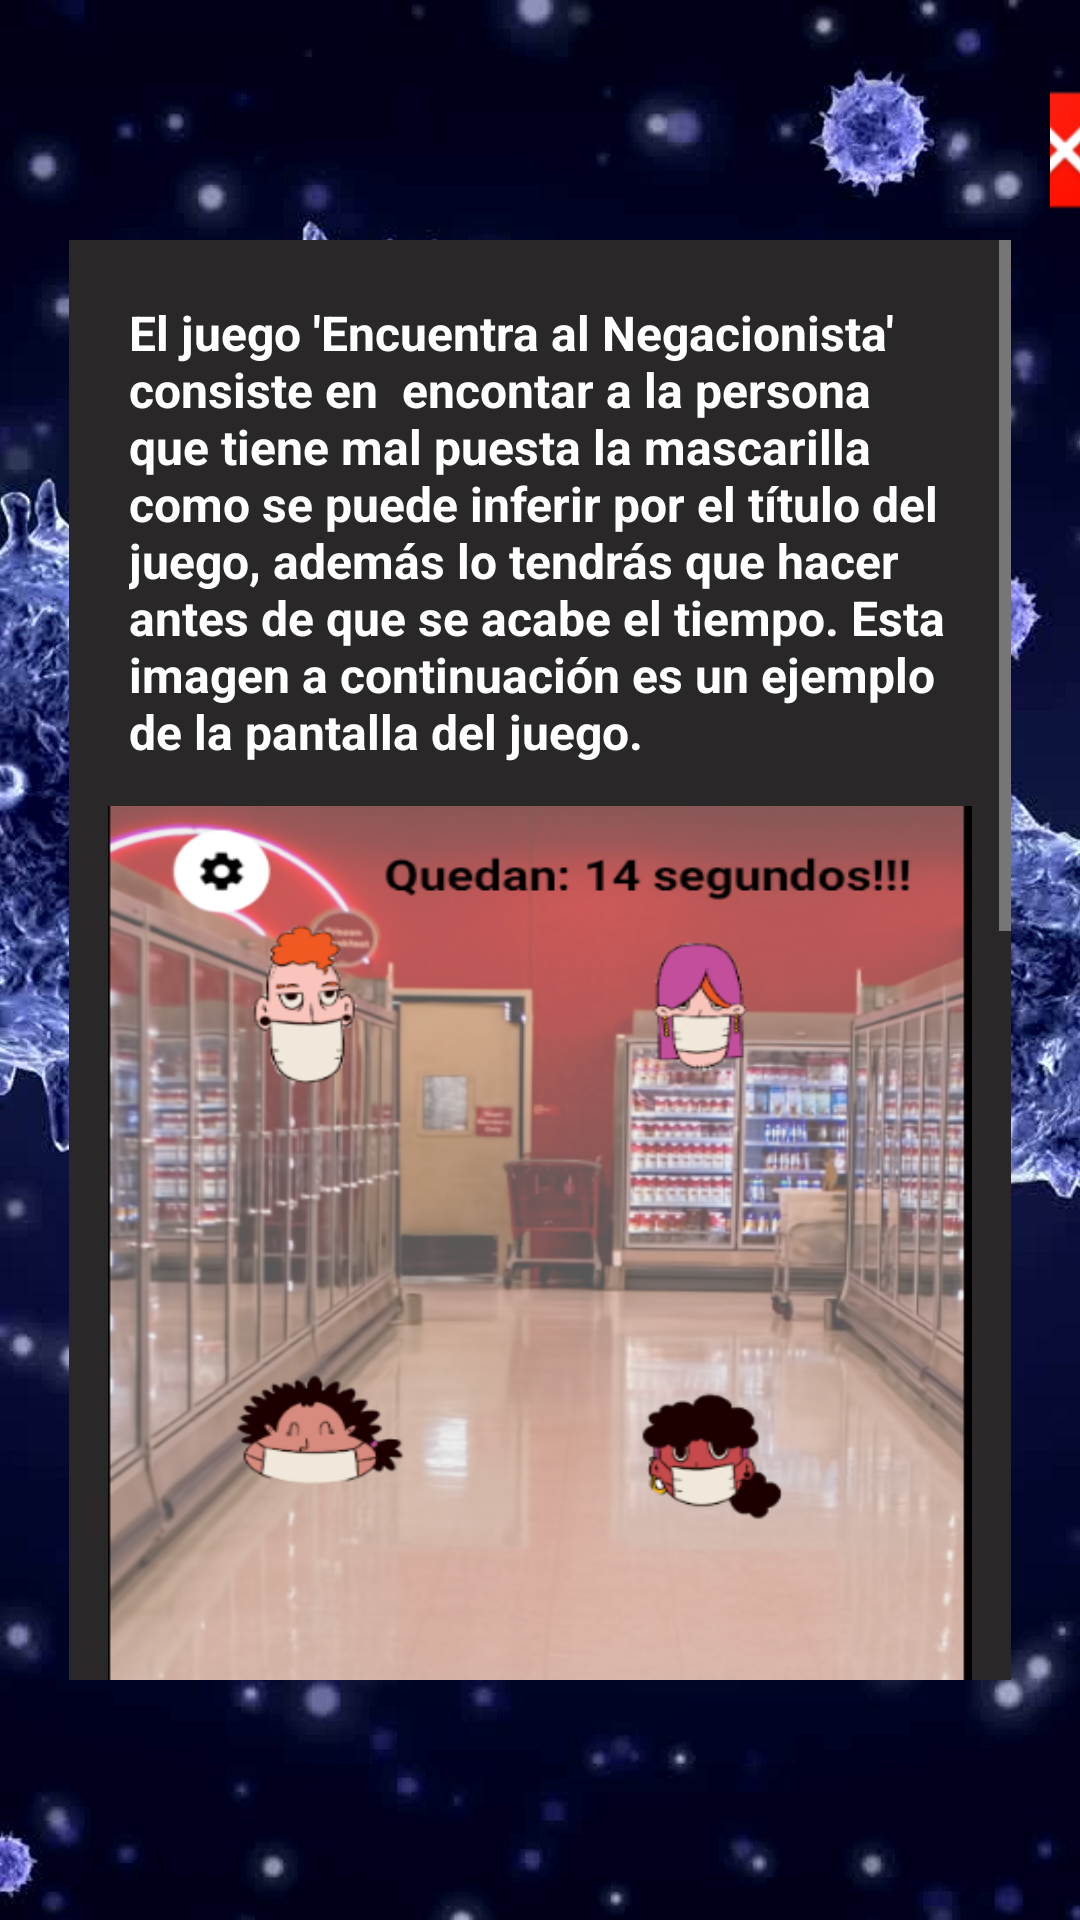

Named icons in this screenshot (1080 × 1920) and their bounding boxes, (x1, y1, x2, y2):
close: (1050, 91, 1080, 209)
